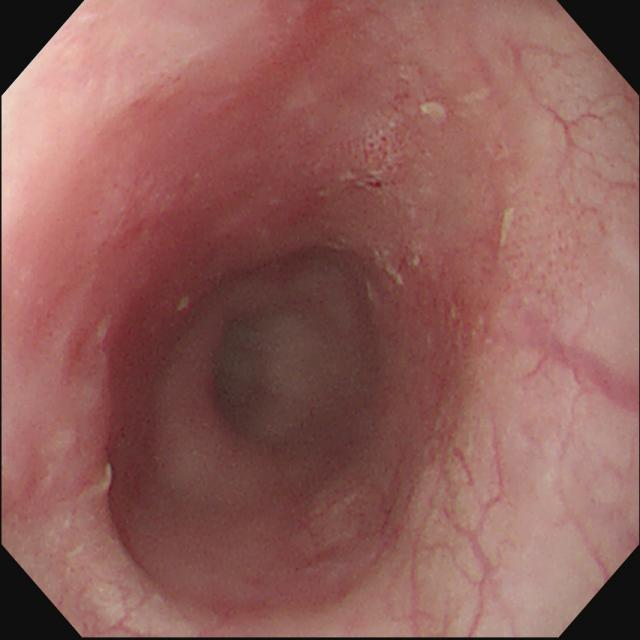A: (337, 80, 416, 202), (517, 203, 593, 325), (347, 451, 420, 567), (421, 269, 494, 384)
J: (81, 465, 115, 501), (374, 248, 405, 287), (418, 102, 451, 124), (499, 207, 514, 249), (177, 295, 193, 312)
